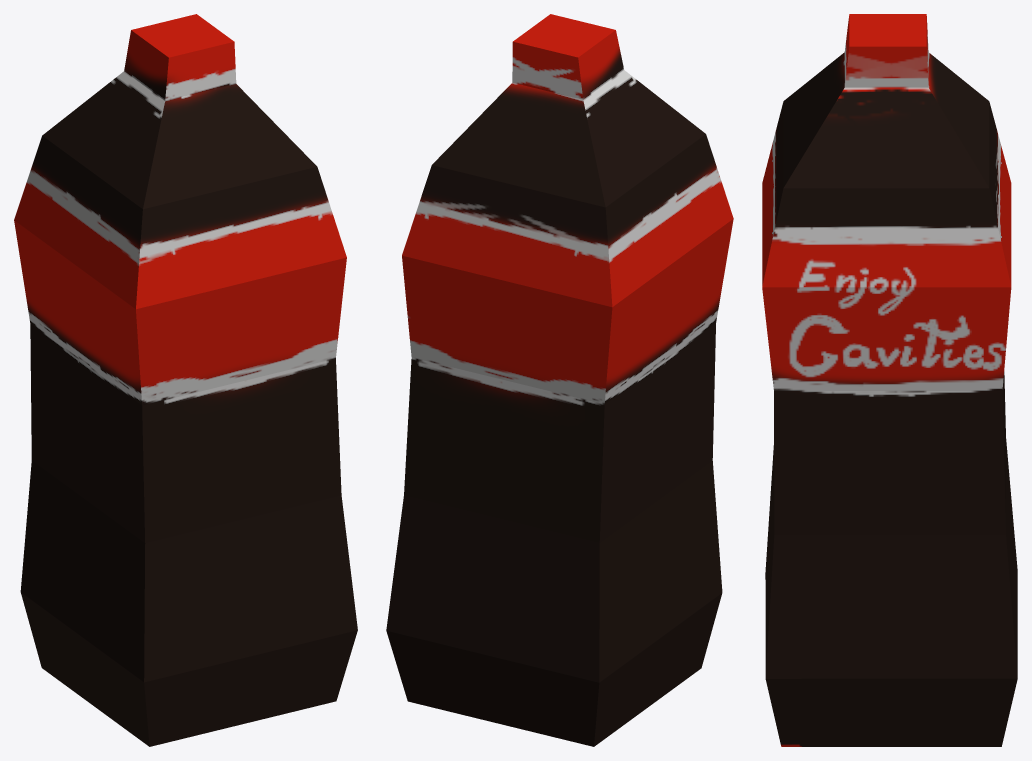
The model's file is soda.fbx.
3 renders of one model, left to right at view 1: azimuth 30°, elevation 25°; view 2: azimuth 150°, elevation 25°; view 3: azimuth 270°, elevation 25°, orthographic. The views are drawn at different scales.
Parts seen in each view (by area): view 1: Plane; view 2: Plane; view 3: Plane.
Part boxes in pixels (x1=…): Plane: x1=14, y1=14, x2=357, y2=746; Plane: x1=386, y1=14, x2=733, y2=746; Plane: x1=762, y1=14, x2=1017, y2=746.
Bounding box in the file's own units: 188 × 525 × 182.
